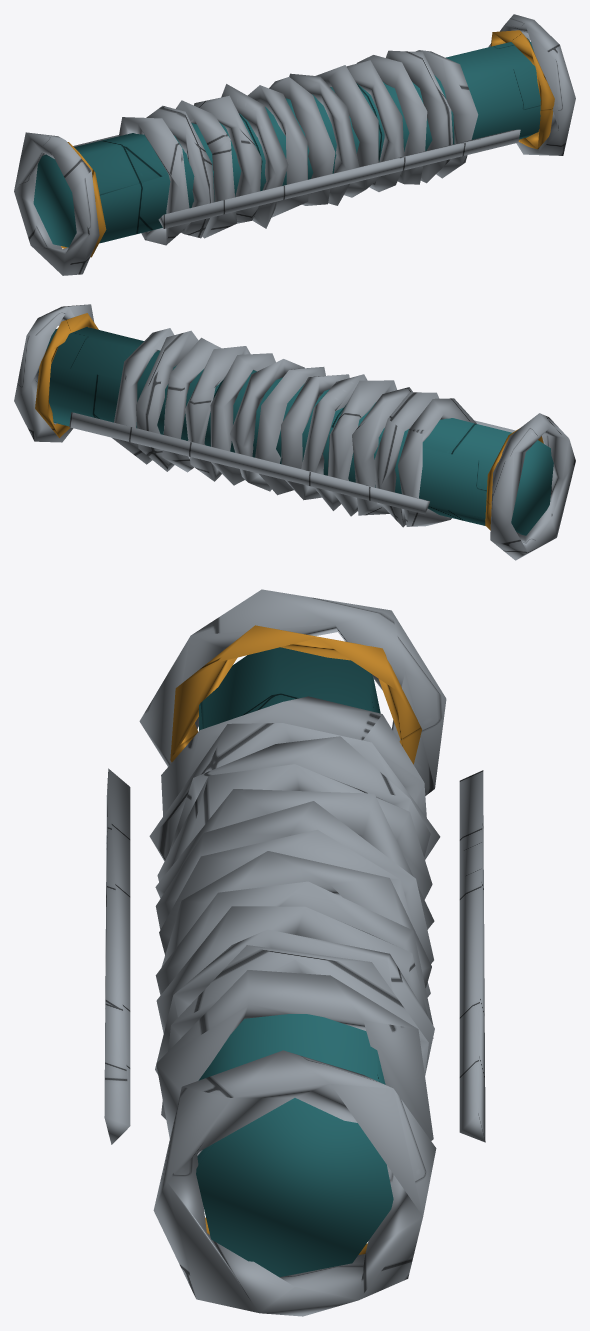
Rendered from expansion_bellows_lod2.glb.
3 renders of one model, top to bottom at view 1: azimuth 30°, elevation 25°; view 2: azimuth 150°, elevation 25°; view 3: azimuth 270°, elevation 25°, orthographic. The views are drawn at different scales.
Parts seen in each view (by area): view 1: LOD2_BrushedMetal, LOD2_Armor, LOD2_Livery; view 2: LOD2_BrushedMetal, LOD2_Armor, LOD2_Livery; view 3: LOD2_BrushedMetal, LOD2_Armor, LOD2_Livery.
Boxes of the visible parts, left/top/right/bottom form: LOD2_BrushedMetal: left=14, top=14, right=575, bottom=275; LOD2_Armor: left=33, top=38, right=540, bottom=247; LOD2_Livery: left=61, top=30, right=554, bottom=257; LOD2_BrushedMetal: left=14, top=304, right=575, bottom=560; LOD2_Armor: left=38, top=327, right=553, bottom=535; LOD2_Livery: left=35, top=313, right=543, bottom=530; LOD2_BrushedMetal: left=104, top=589, right=485, bottom=1316; LOD2_Armor: left=196, top=647, right=393, bottom=1277; LOD2_Livery: left=170, top=625, right=421, bottom=1254.
Bounding box in the file's own units: 4.2 × 1.09 × 1.39.
3 materials, 3 textured.
